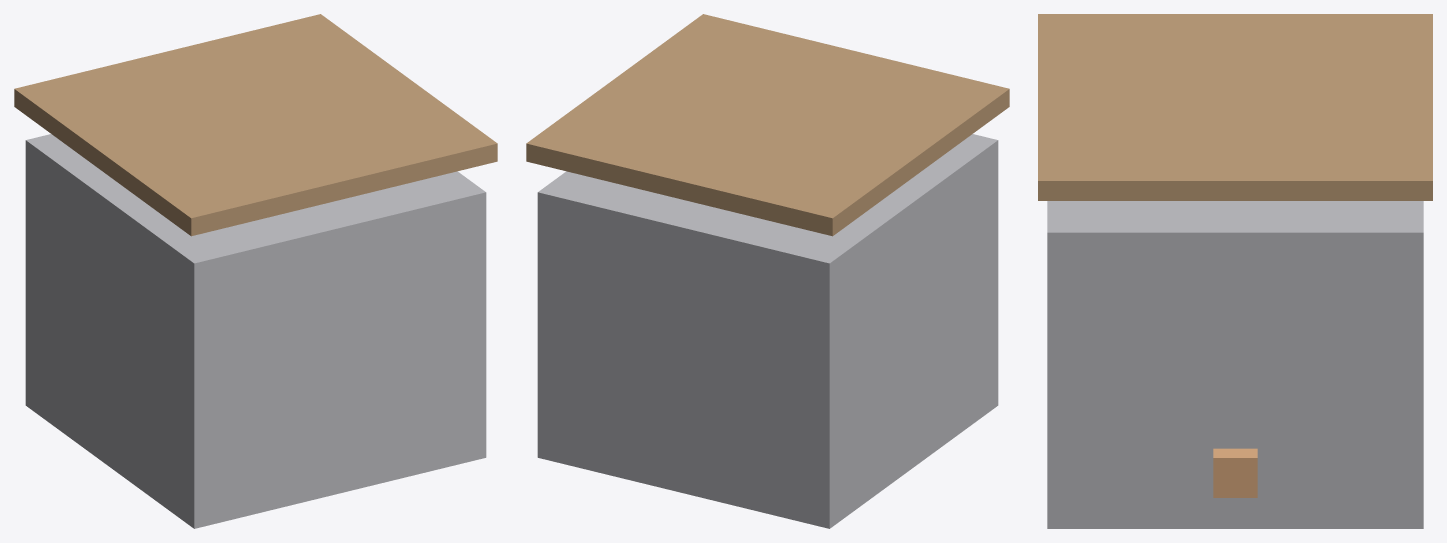
The model's file is Prop_Water_AMF_Cistern_V2.glb.
3 renders of one model, left to right at view 1: azimuth 30°, elevation 25°; view 2: azimuth 150°, elevation 25°; view 3: azimuth 270°, elevation 25°, orthographic. The views are drawn at different scales.
Visible parts, largest first — view 1: Prop_Water_AMF_Cistern_V2; view 2: Prop_Water_AMF_Cistern_V2; view 3: Prop_Water_AMF_Cistern_V2.
Part boxes in pixels (x1,y1,x2,y2): Prop_Water_AMF_Cistern_V2: (14,14,497,528); Prop_Water_AMF_Cistern_V2: (526,14,1009,528); Prop_Water_AMF_Cistern_V2: (1038,14,1432,528).
Size of the model in its own units: 1.84 by 1.75 by 1.78.
